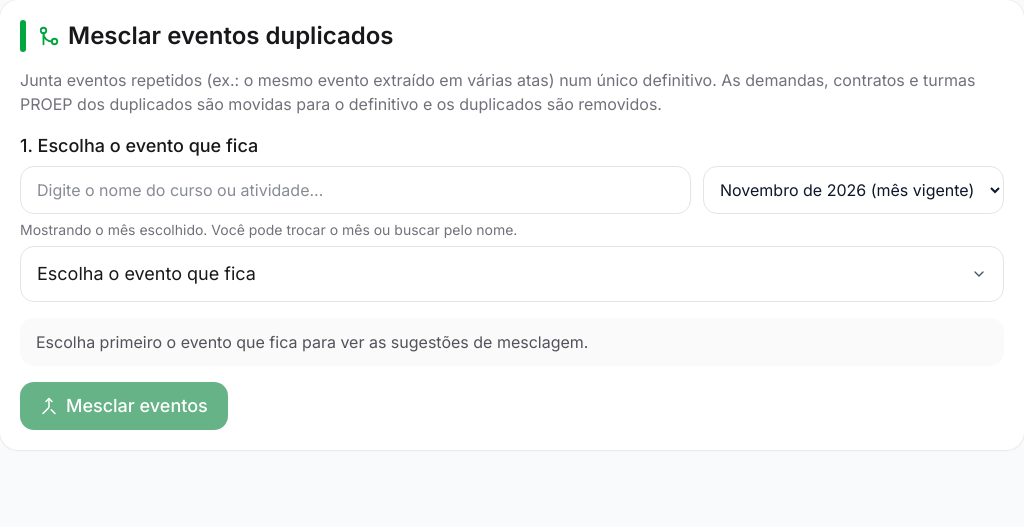
Scenario: escolha do evento definitivo para mesclar › busca o definitivo em outros meses pelo nome, sem acentos
Type "curso ectoplasmia" into the search field named "Buscar evento definitivo pelo nome" at (356, 190), box [20, 166, 691, 214]
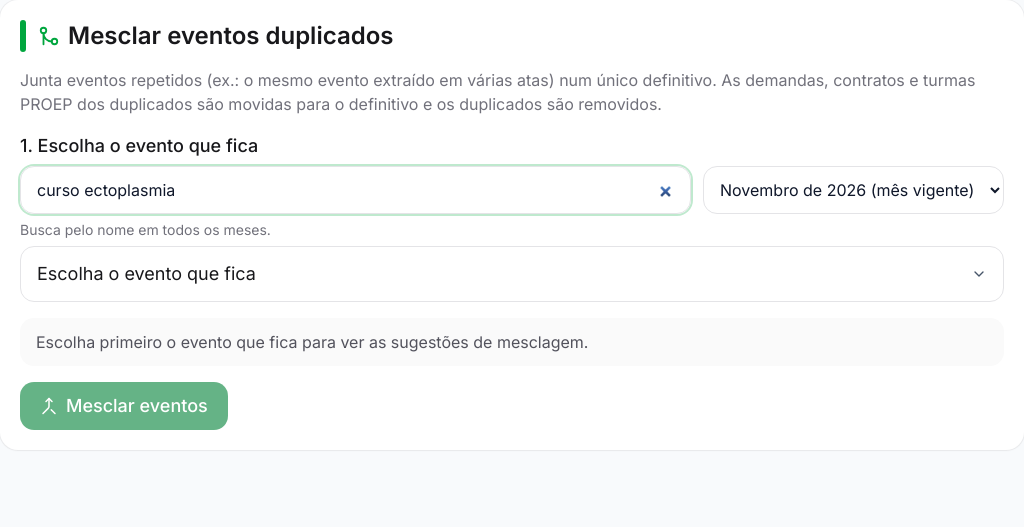
Click the dropdown named "Escolha o evento definitivo" at (146, 274), box [20, 246, 1004, 302]
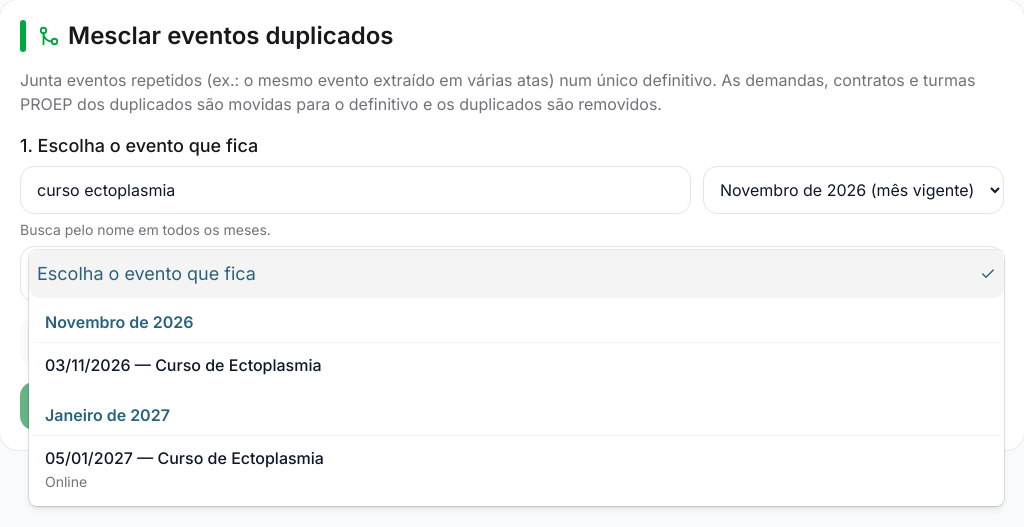
Expected: the option "05/01/2027 — Curso de Ectoplasmia Online" is shown, [45, 448, 324, 490]
